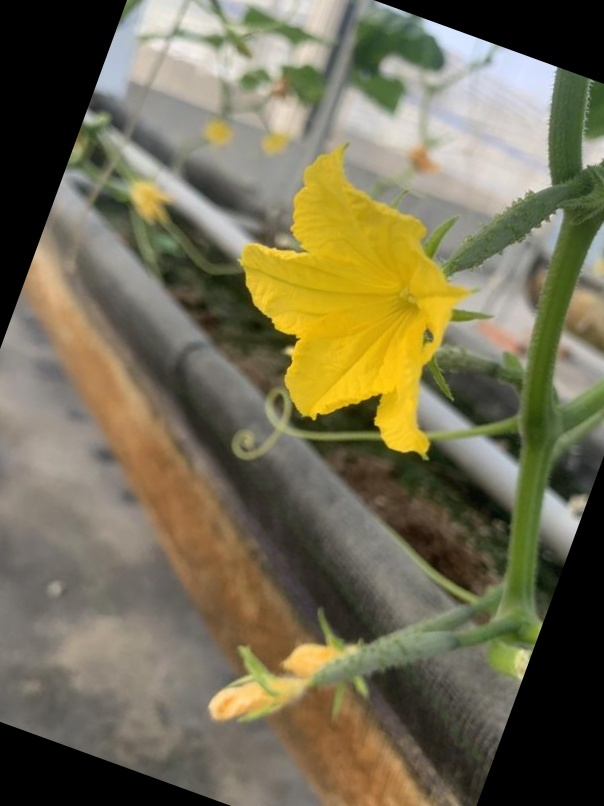flowering: (232, 145, 517, 466)
